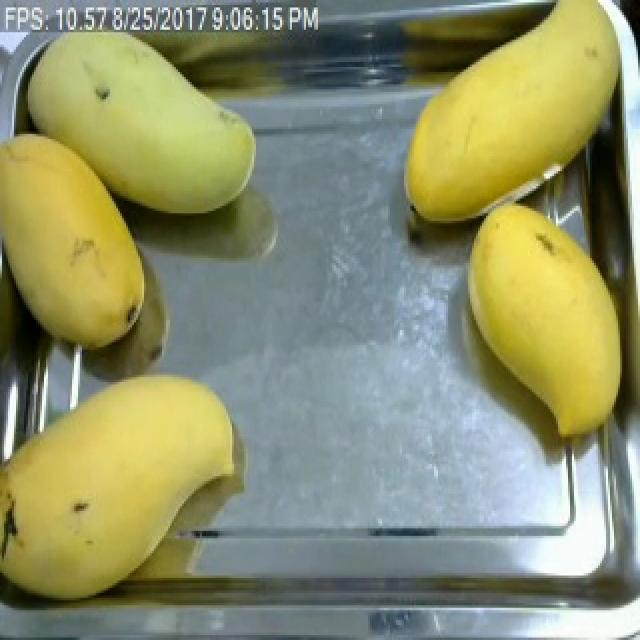fruit: (0, 362, 246, 608), (384, 0, 640, 233), (452, 181, 640, 452), (12, 30, 266, 226), (0, 116, 158, 360)
